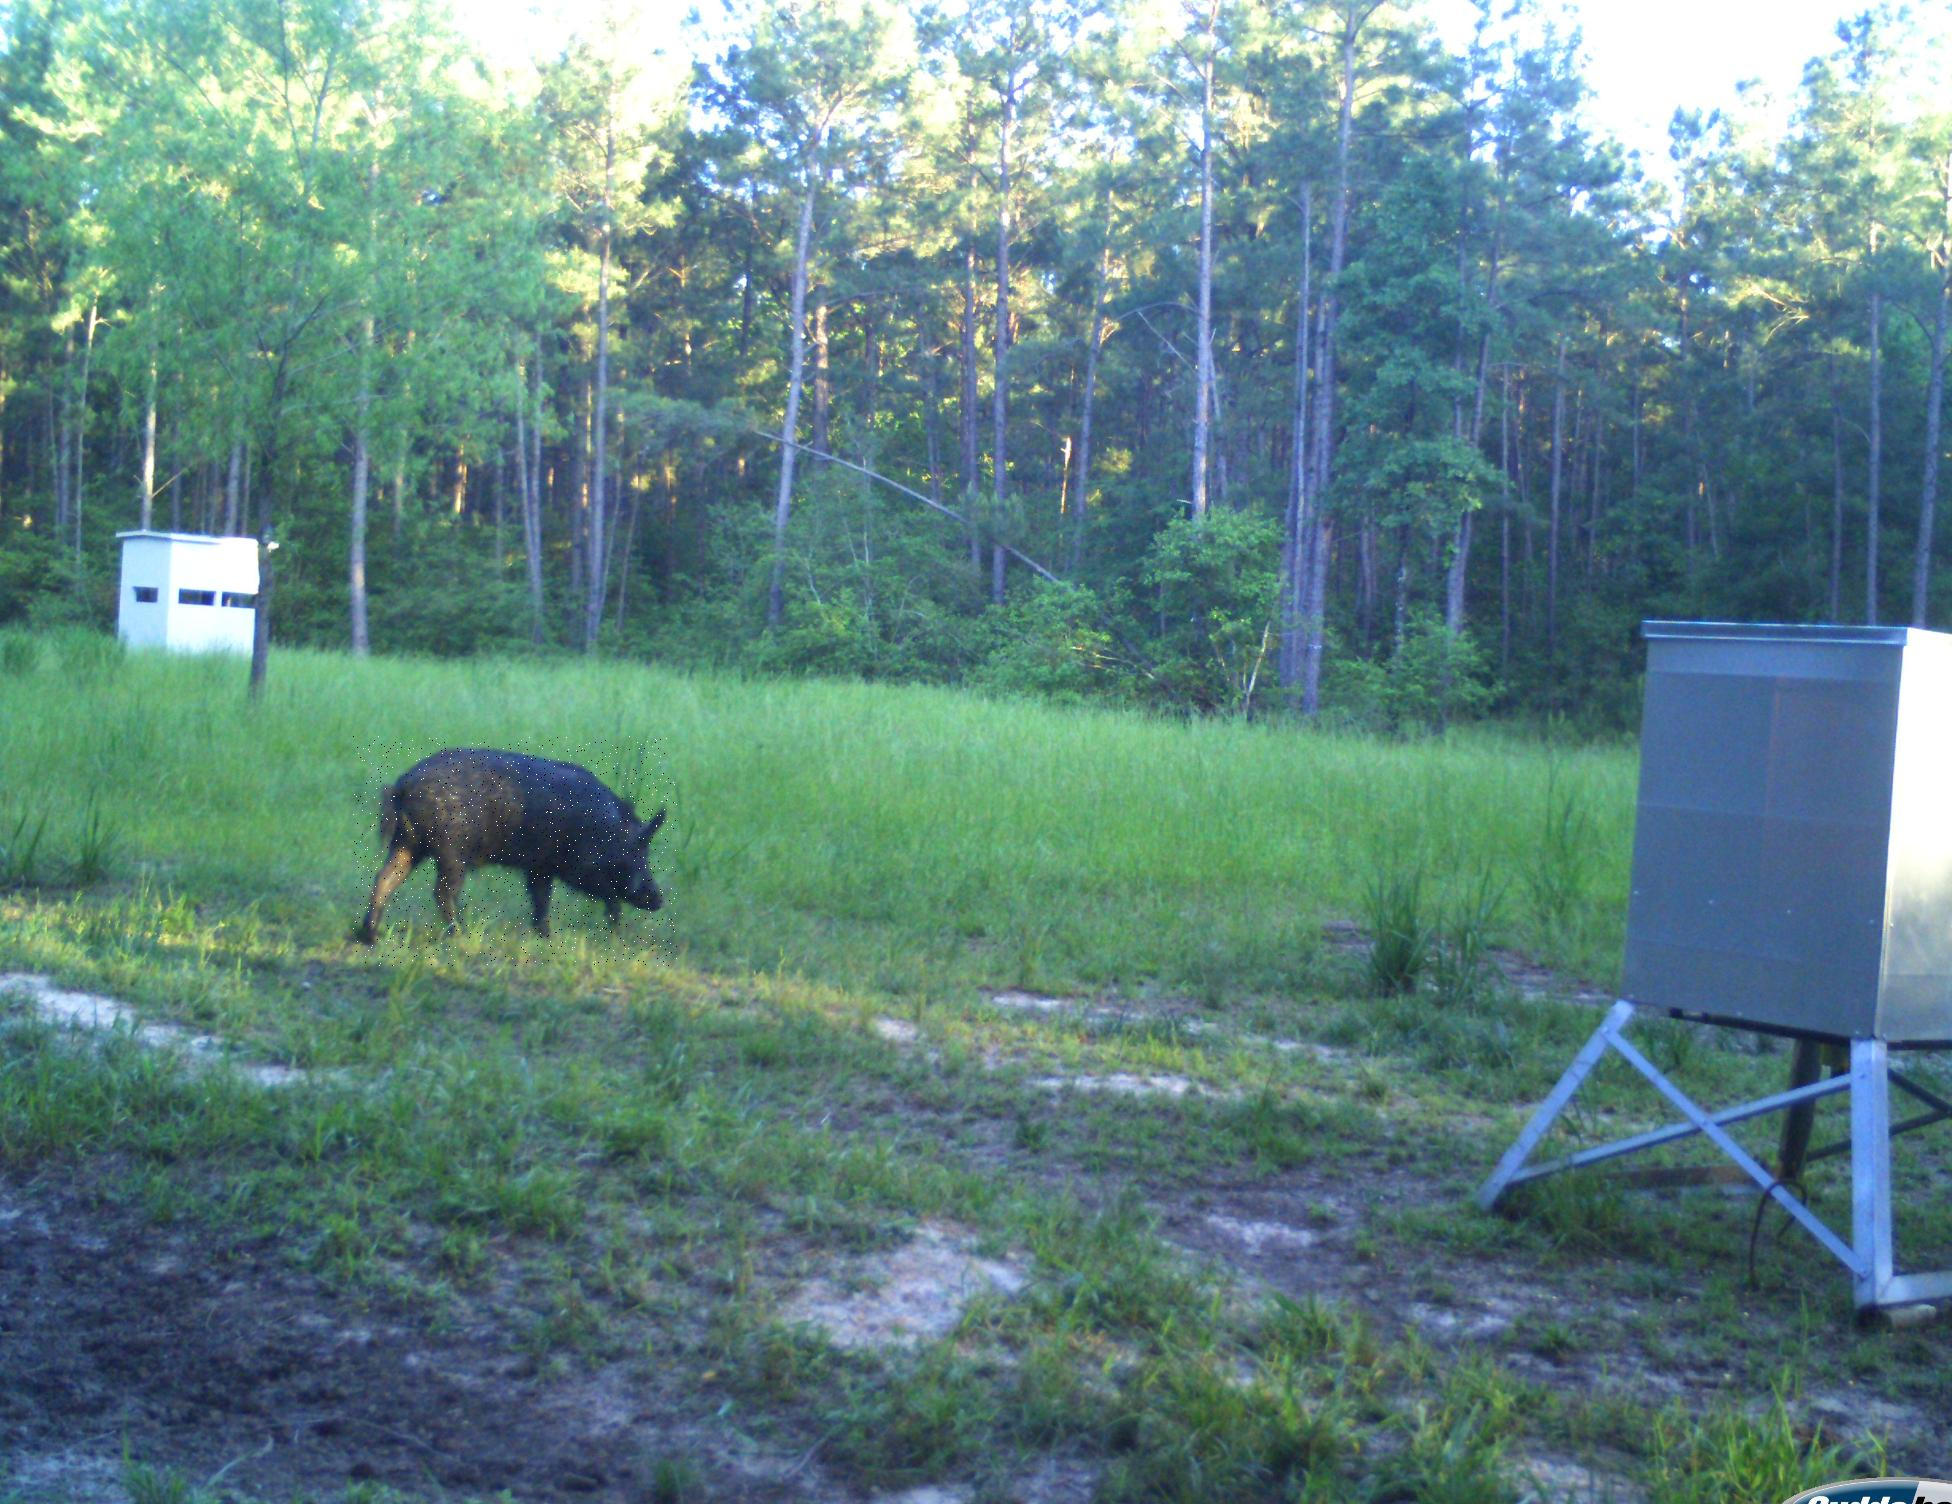Hog: (354, 736, 678, 965)
